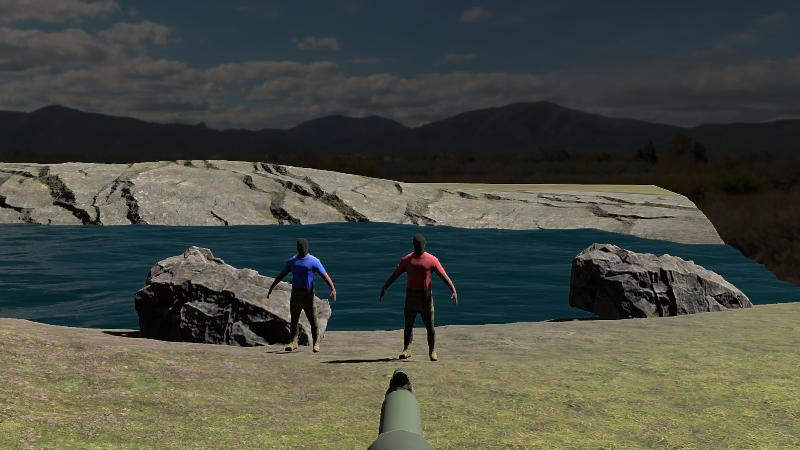Human: (381, 234, 457, 363), (267, 237, 336, 354)
